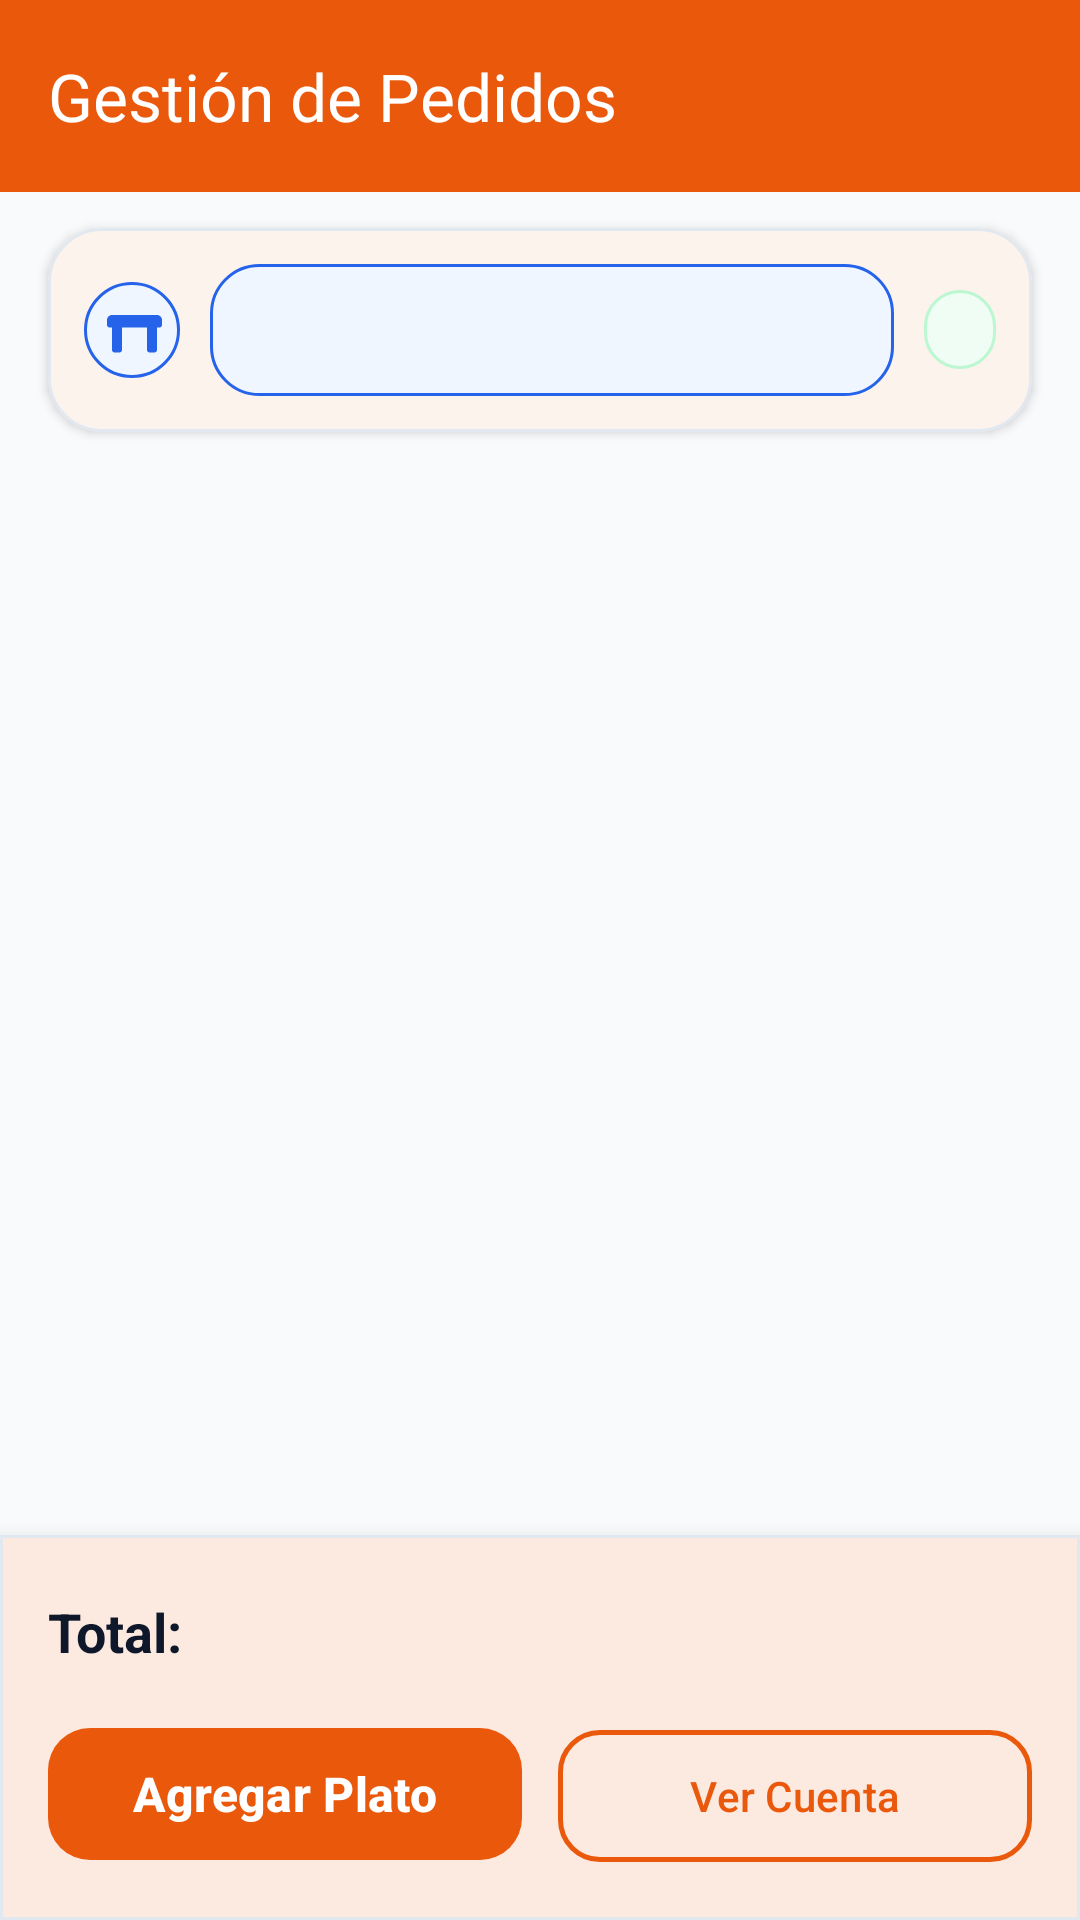

Where to tap for icons on this 1080×1920 app screen, as point (x, y):
table: point (132, 330)
